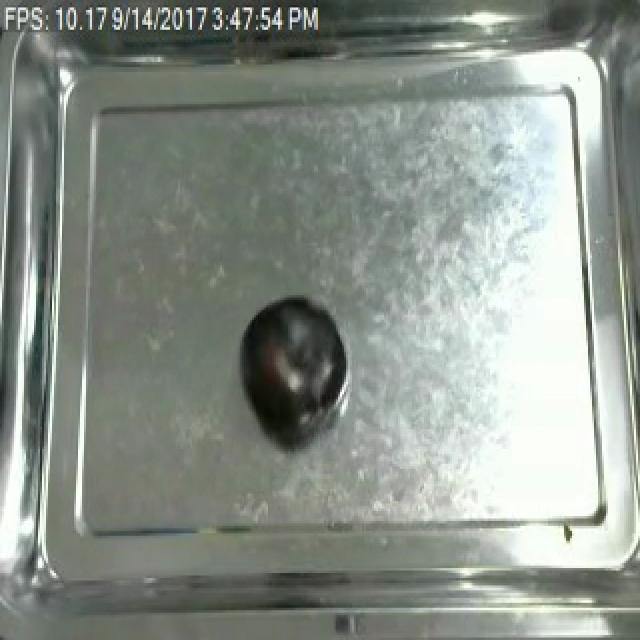Fruit: (234, 293, 352, 432)
